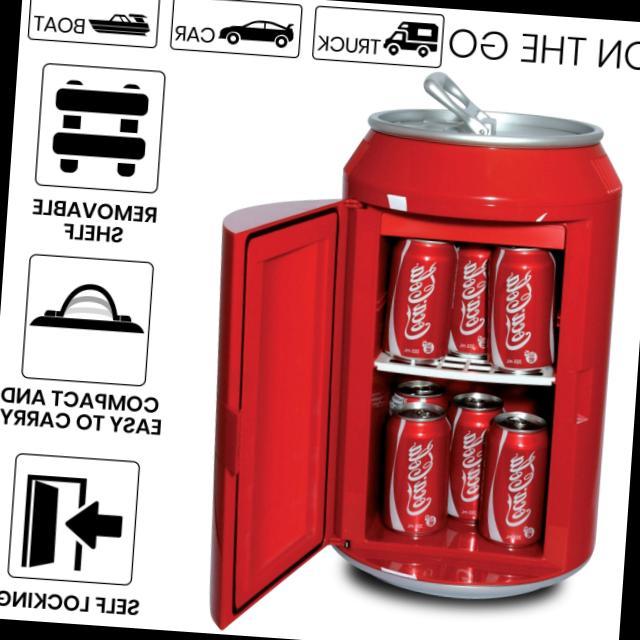cocacola: (373, 402, 452, 564), (476, 408, 556, 548), (382, 222, 454, 361), (490, 242, 562, 375), (444, 391, 504, 527), (446, 240, 502, 364)
